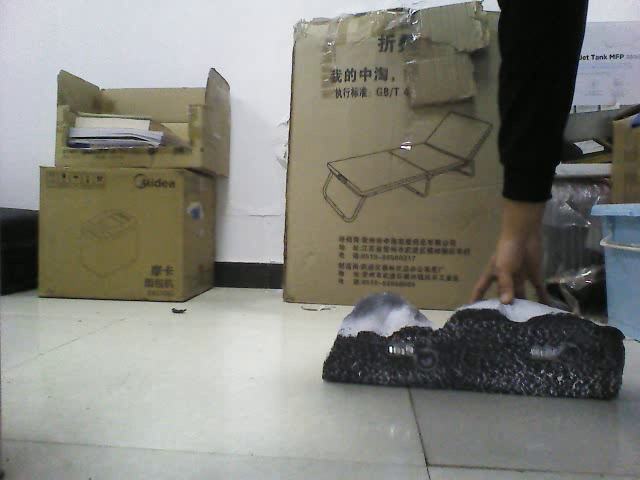rock: (319, 280, 623, 400)
